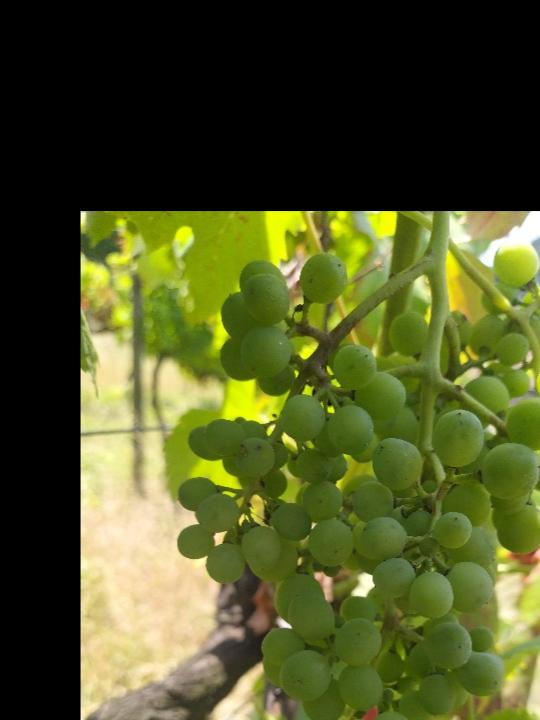grape: (178, 238, 540, 720)
